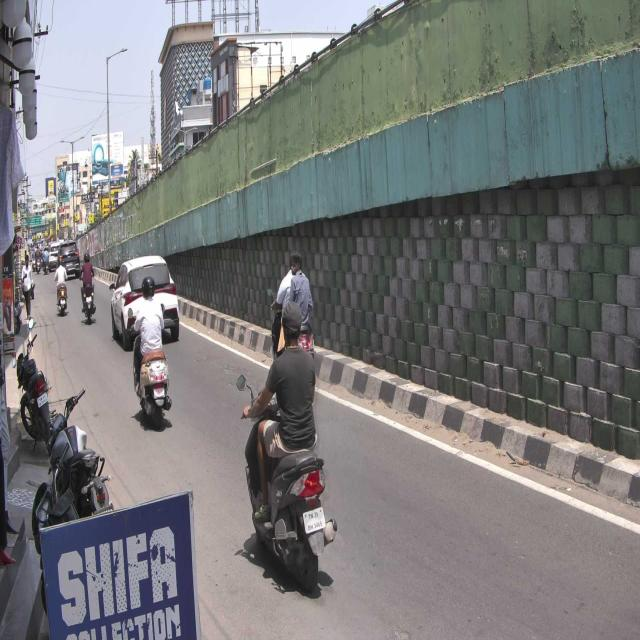single_rider: (242, 298, 338, 590)
